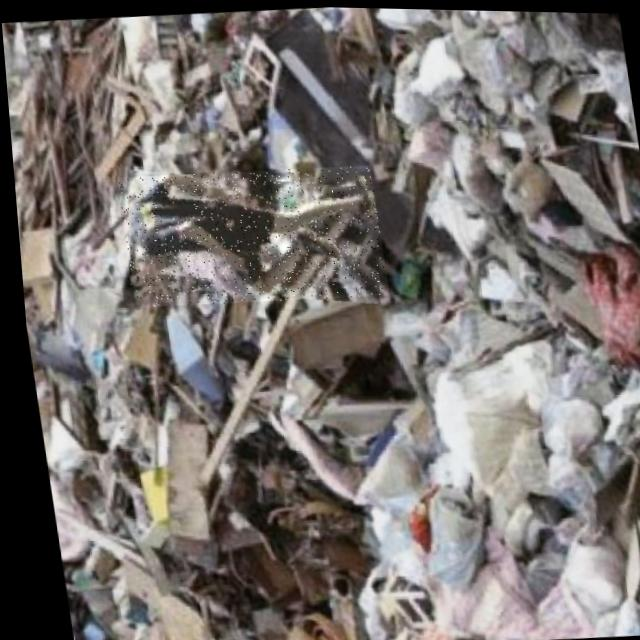Person in Rubble: (113, 158, 385, 310)
